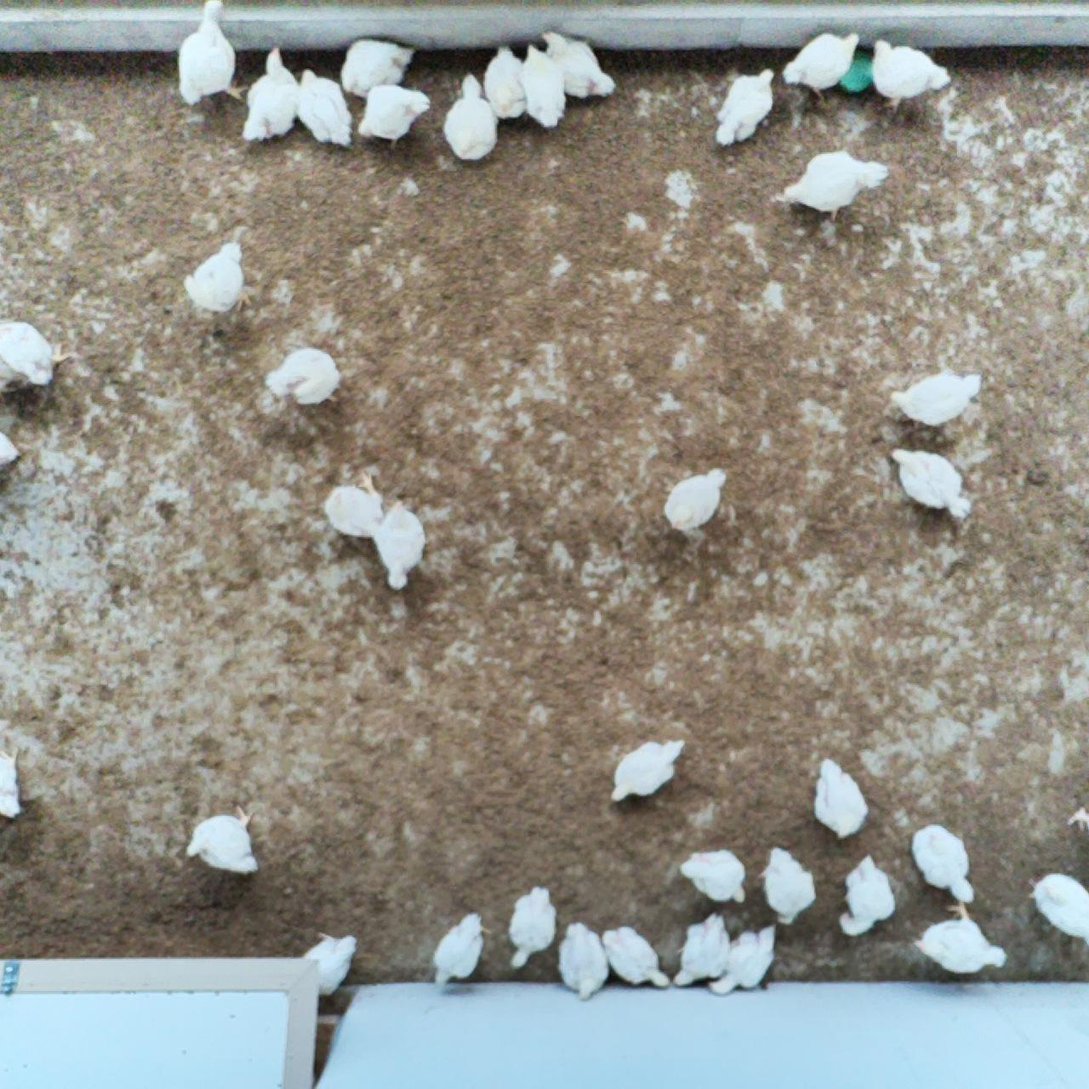chicken: (777, 148, 890, 222), (174, 0, 249, 107), (908, 901, 1010, 972), (887, 442, 975, 524), (238, 41, 302, 143), (870, 35, 952, 114), (886, 368, 984, 433), (780, 28, 863, 100), (1018, 866, 1089, 948), (181, 235, 251, 318), (286, 926, 356, 1009), (0, 308, 68, 393), (606, 733, 686, 805), (538, 29, 615, 103), (911, 820, 978, 903), (185, 802, 258, 878), (833, 854, 900, 934), (369, 497, 425, 592), (709, 924, 779, 1000), (292, 64, 354, 149), (355, 79, 431, 148), (265, 342, 343, 409), (811, 754, 871, 840), (597, 923, 673, 990), (716, 64, 775, 150), (321, 470, 390, 543), (672, 912, 732, 993), (443, 72, 497, 161), (426, 910, 486, 989), (505, 882, 558, 971), (339, 37, 416, 98), (764, 843, 821, 925), (518, 40, 569, 130), (663, 467, 729, 536), (682, 845, 750, 910), (556, 920, 611, 1000), (483, 44, 533, 123), (0, 734, 31, 821), (0, 423, 21, 470)
